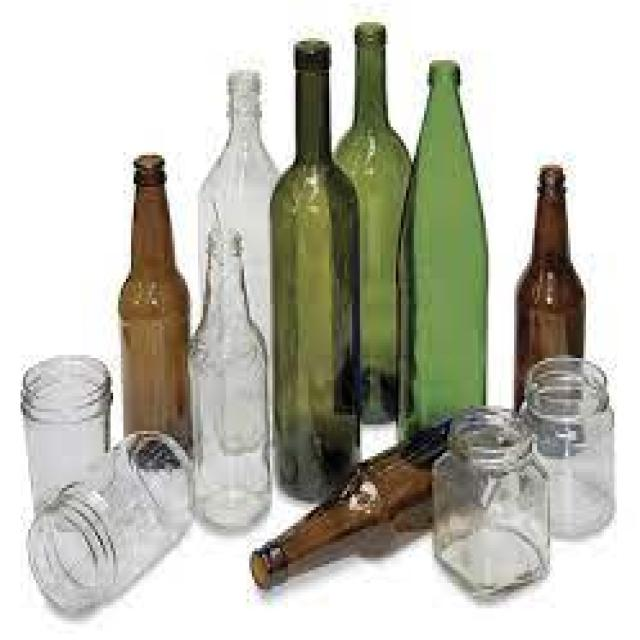Vidrio: (255, 27, 368, 494), (397, 49, 494, 407), (107, 132, 196, 477), (432, 391, 560, 609), (521, 160, 600, 467), (13, 345, 116, 526)
